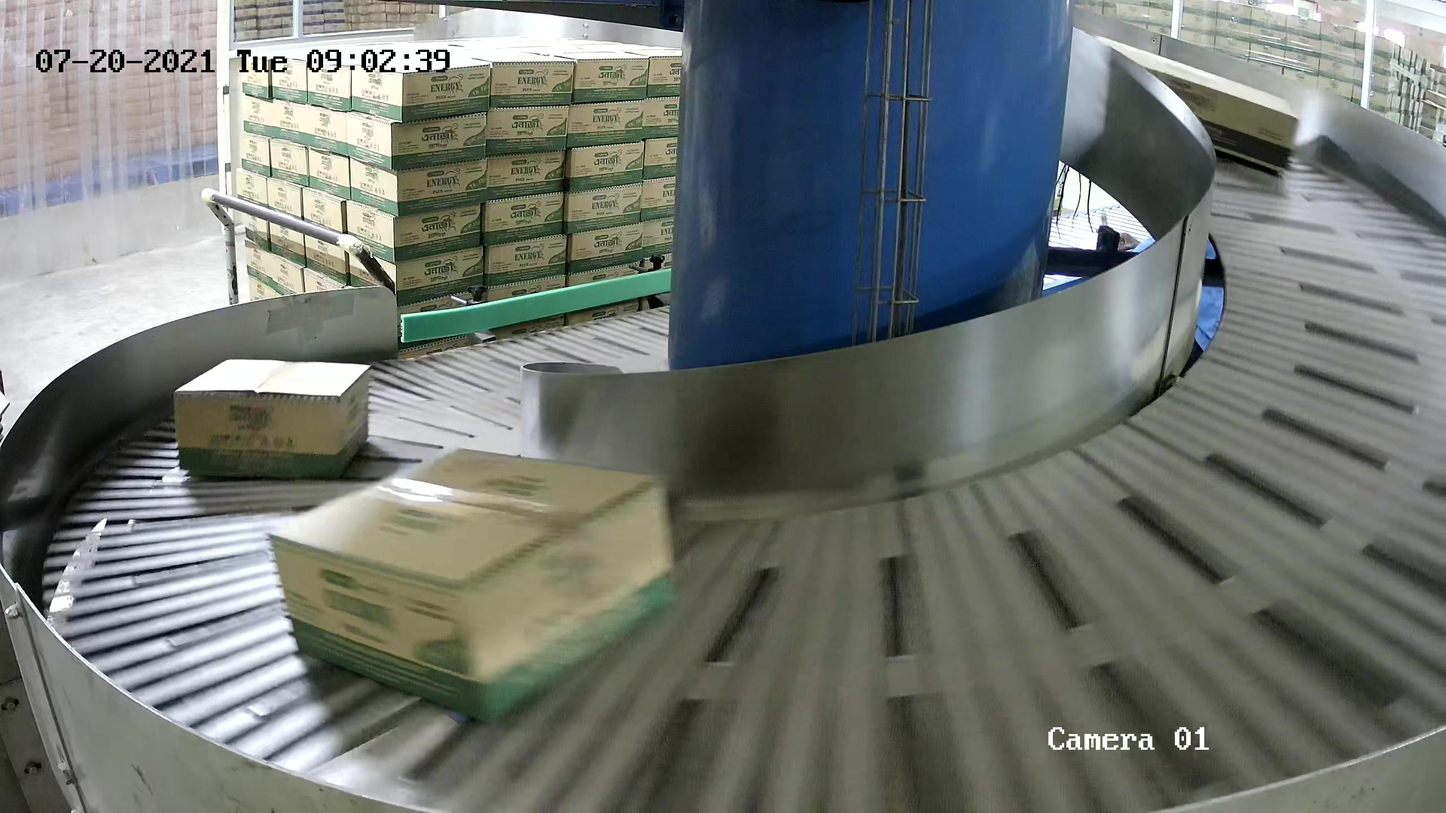Box: (267, 444, 680, 727), (1085, 34, 1304, 182), (172, 358, 373, 483)
